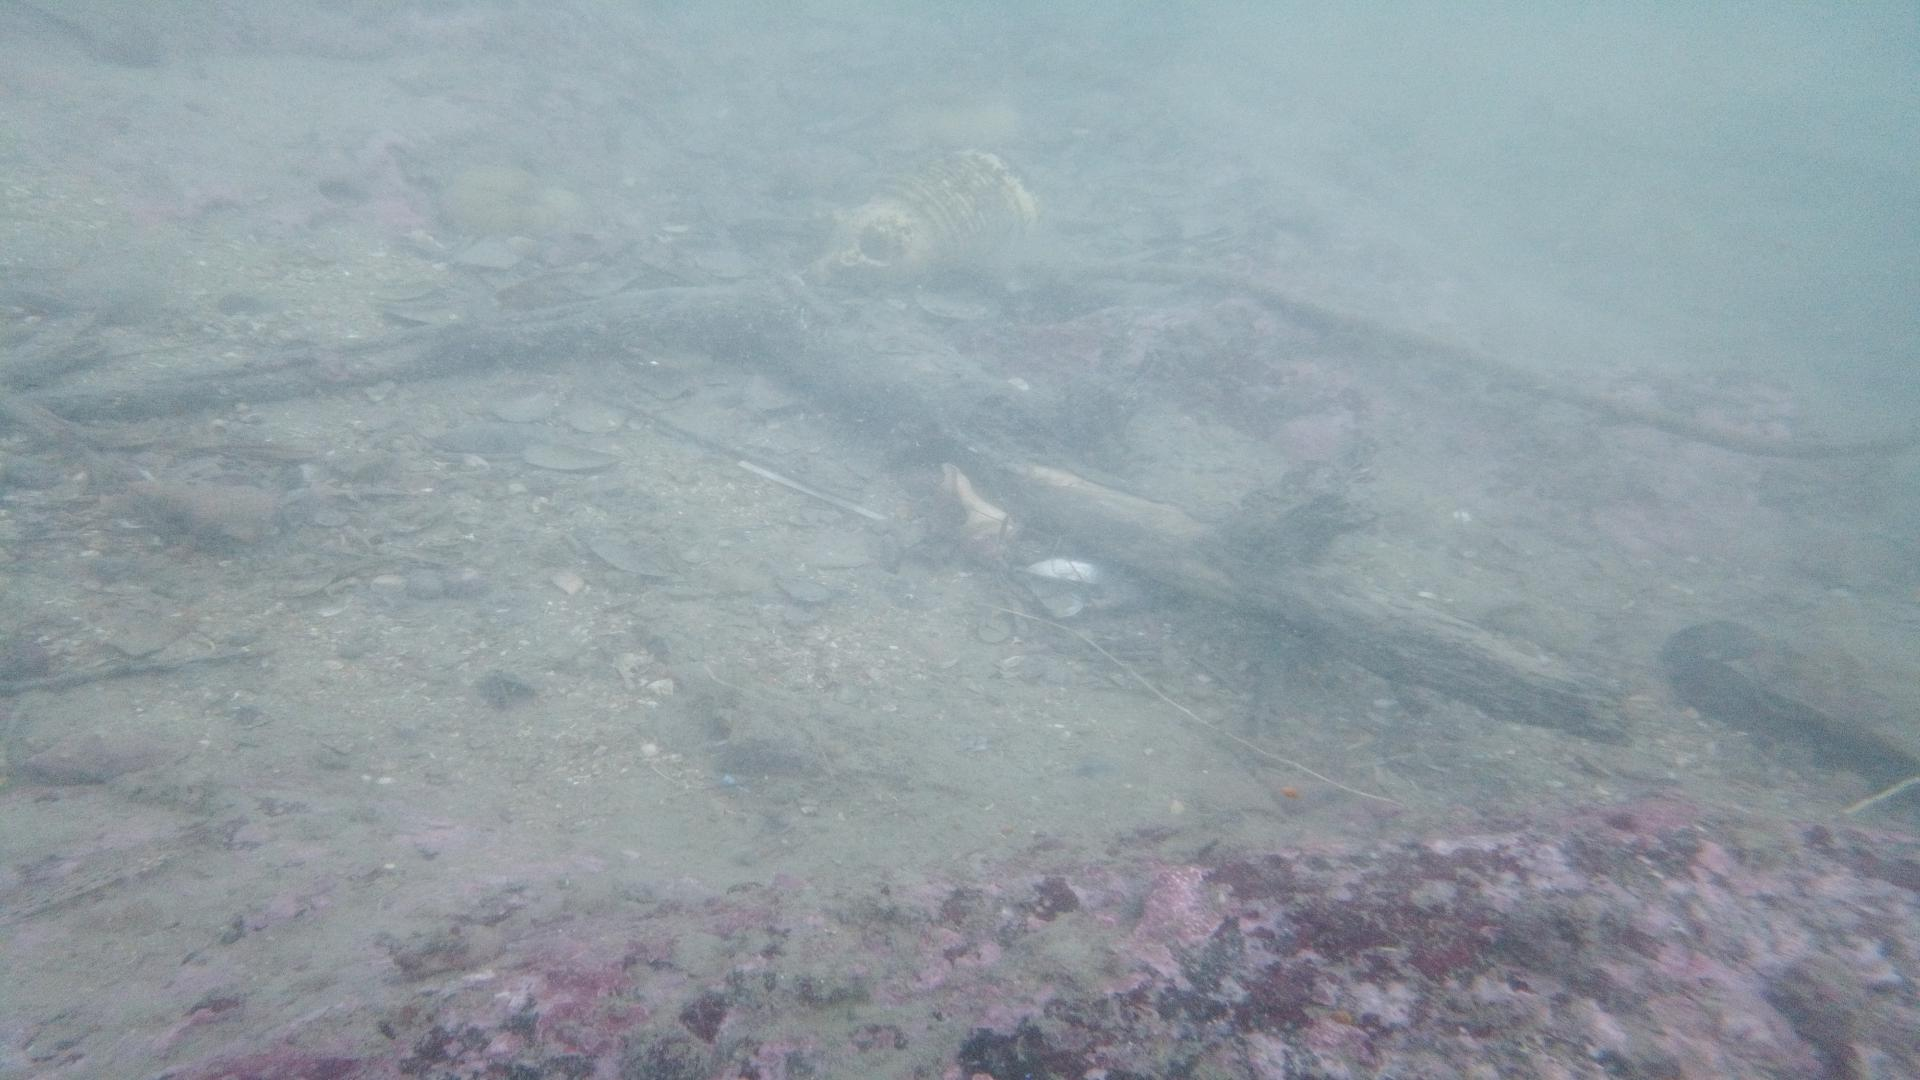rope: (1009, 262, 1920, 463)
wood: (15, 282, 1636, 749)
